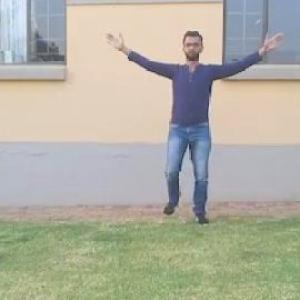takeoff: (103, 23, 282, 226)
